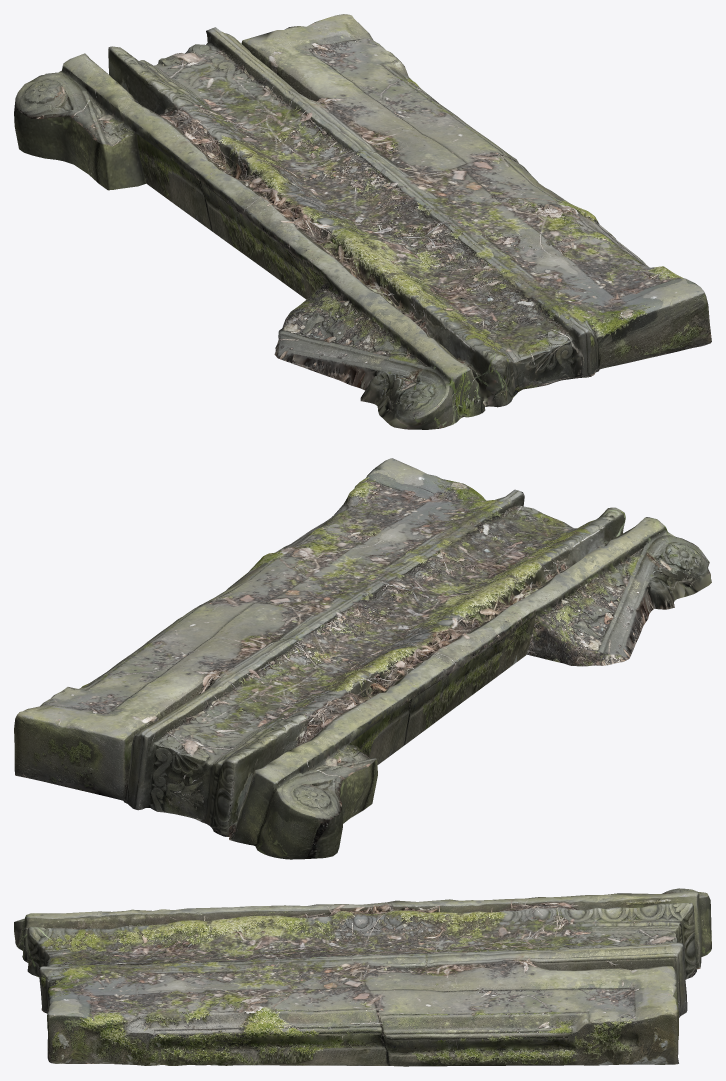
The model's file is sm_GraveDebris_06_01.fbx.
The picture shows the model from 3 angles, top to bottom: view 1: azimuth 30°, elevation 25°; view 2: azimuth 150°, elevation 25°; view 3: azimuth 270°, elevation 25°; orthographic projection. The views are drawn at different scales.
Visible parts, largest first — view 1: sm_GraveDebris_06_01_LOD0; view 2: sm_GraveDebris_06_01_LOD0; view 3: sm_GraveDebris_06_01_LOD0.
Boxes of the visible parts, x1,y1,x2,y2 form: sm_GraveDebris_06_01_LOD0: (14, 14, 711, 429); sm_GraveDebris_06_01_LOD0: (14, 458, 711, 859); sm_GraveDebris_06_01_LOD0: (14, 888, 711, 1066).
Size of the model in its own units: 103 by 205 by 21.69.
